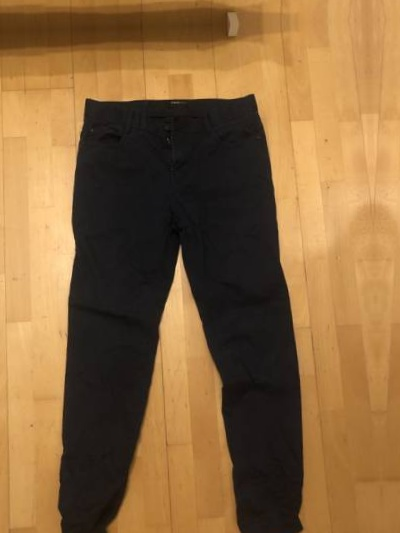Pants: (26, 60, 337, 533)
